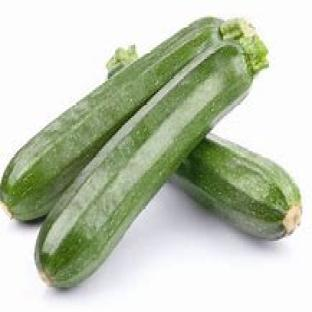Zucchini: (36, 37, 267, 287), (2, 18, 221, 220), (174, 136, 301, 239)
